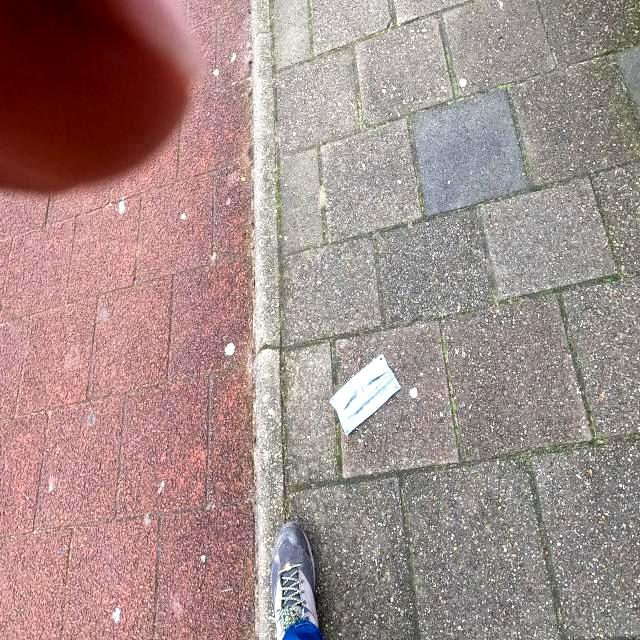Mask: (328, 352, 402, 438)
